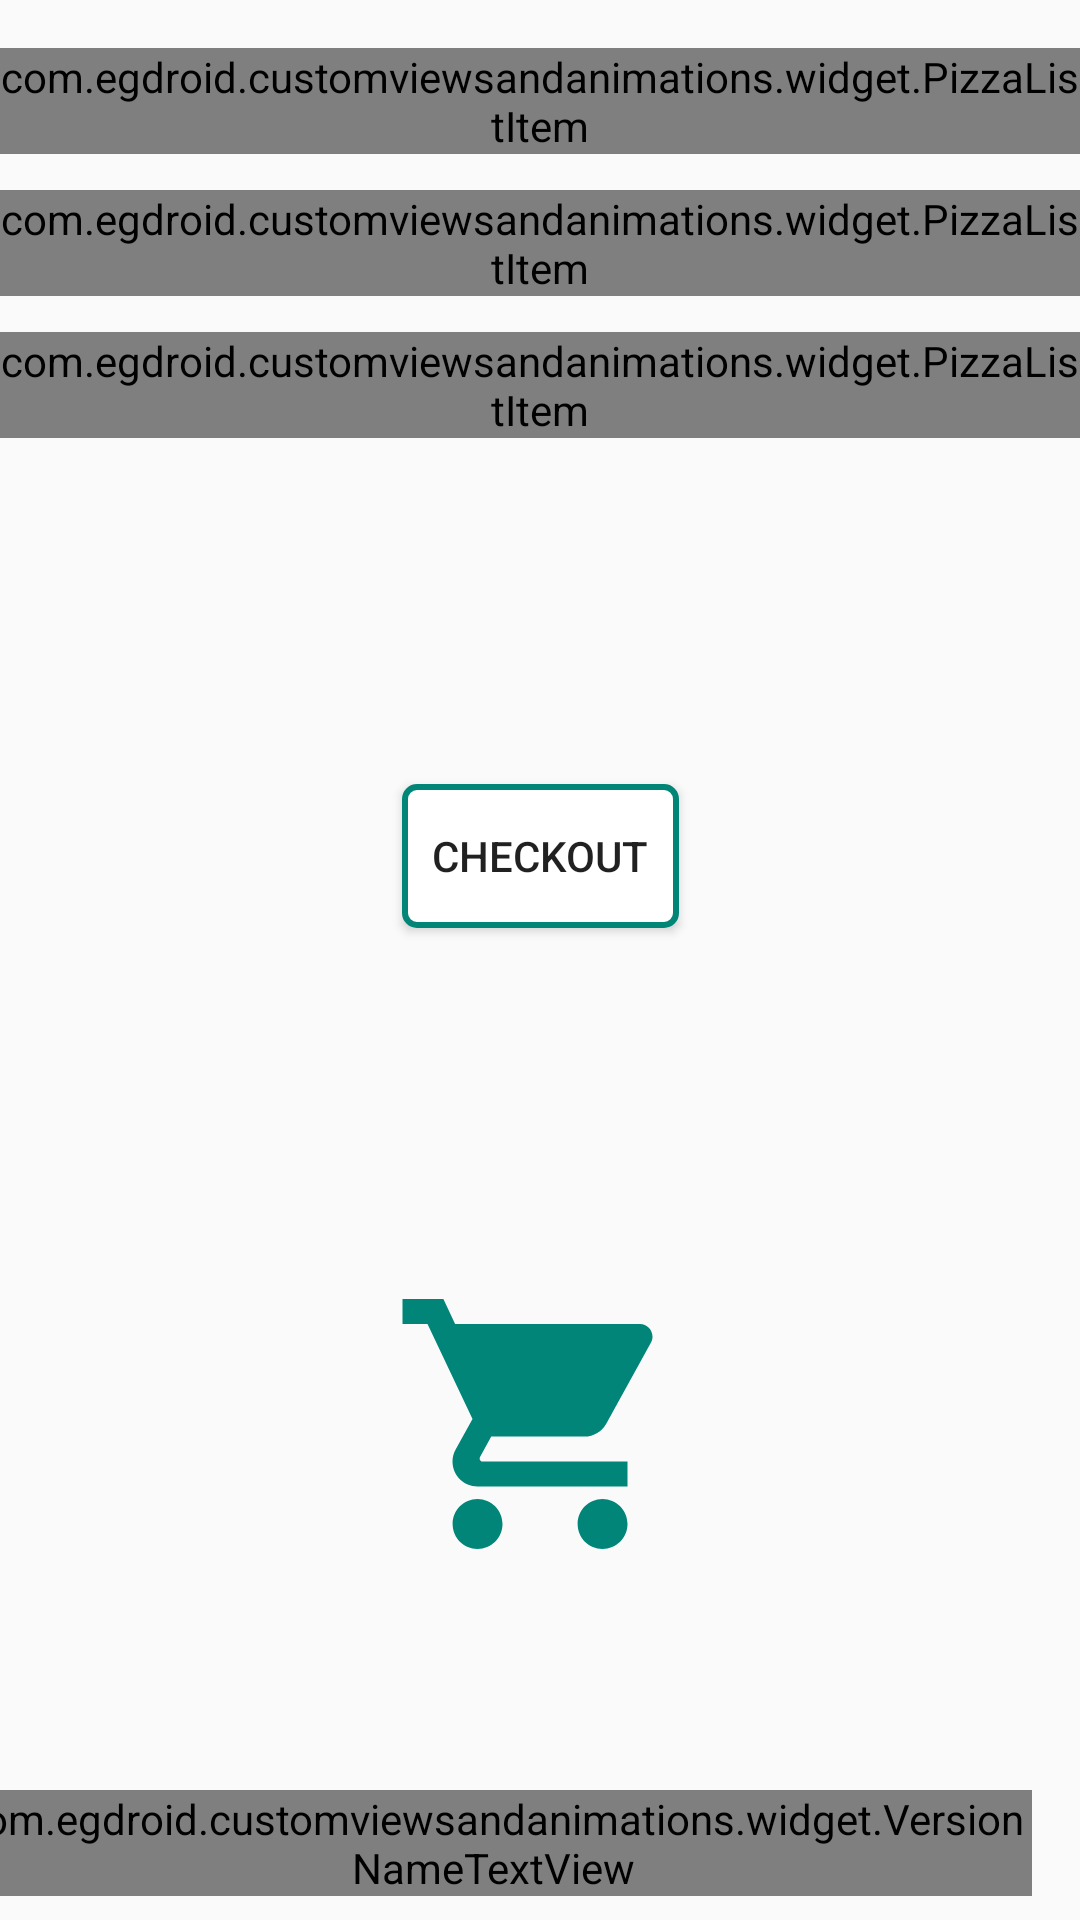

Icons on this 1080 × 1920 Android screen, each with its box as bbox(x1, y1, x2, y2):
shopping cart: bbox(402, 1299, 653, 1549)
